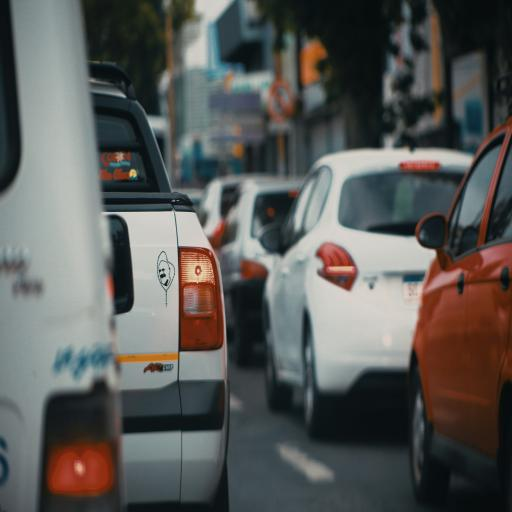car: (0, 0, 122, 511), (90, 64, 229, 510), (261, 149, 471, 434), (409, 117, 511, 510), (217, 178, 300, 365), (198, 174, 272, 247), (198, 175, 246, 240), (176, 188, 203, 212)
